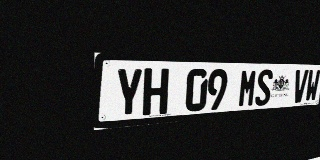0: (185, 69, 209, 112)
9: (206, 69, 228, 110)
H: (142, 68, 169, 116)
M: (237, 69, 258, 108)
S: (254, 69, 273, 106)
V: (292, 70, 309, 103)
W: (304, 70, 320, 102)
Y: (114, 68, 143, 118)
